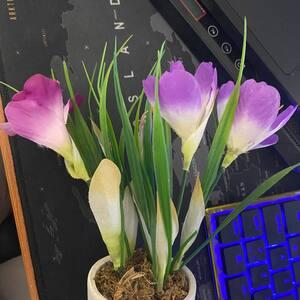Saffron: (215, 80, 296, 174), (145, 63, 217, 168), (4, 72, 81, 165)
